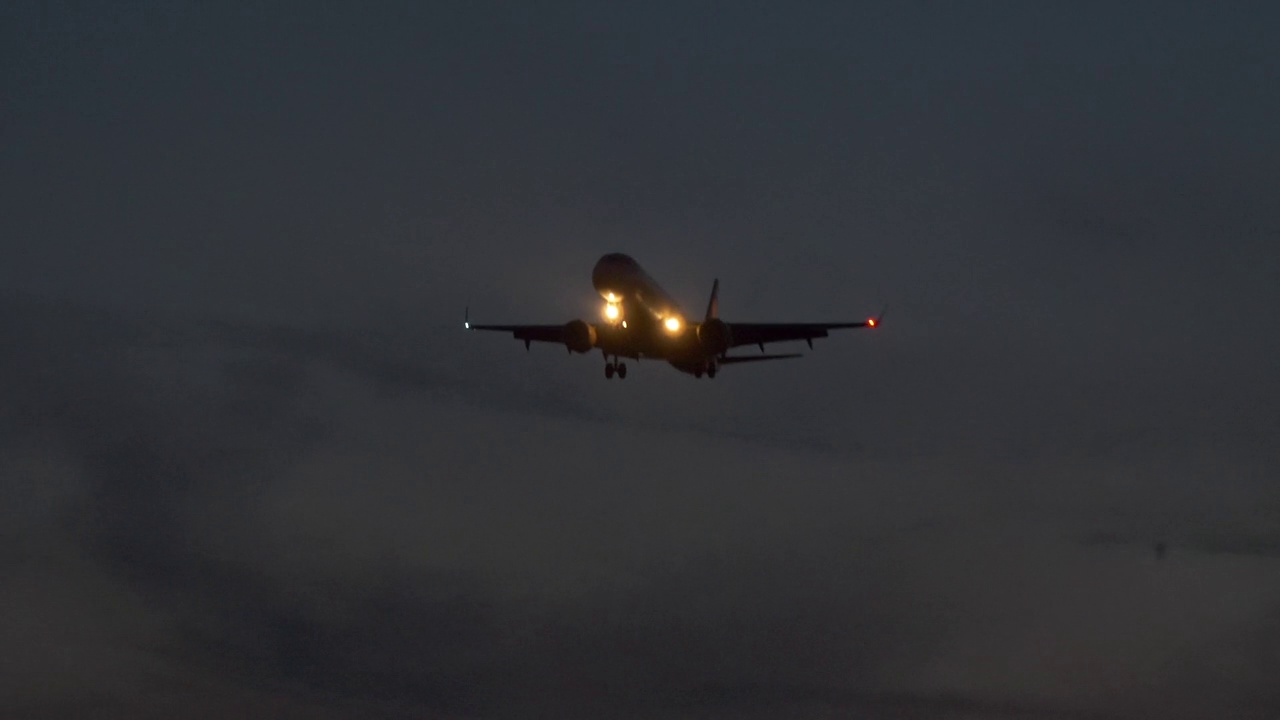plane: (458, 251, 887, 380)
